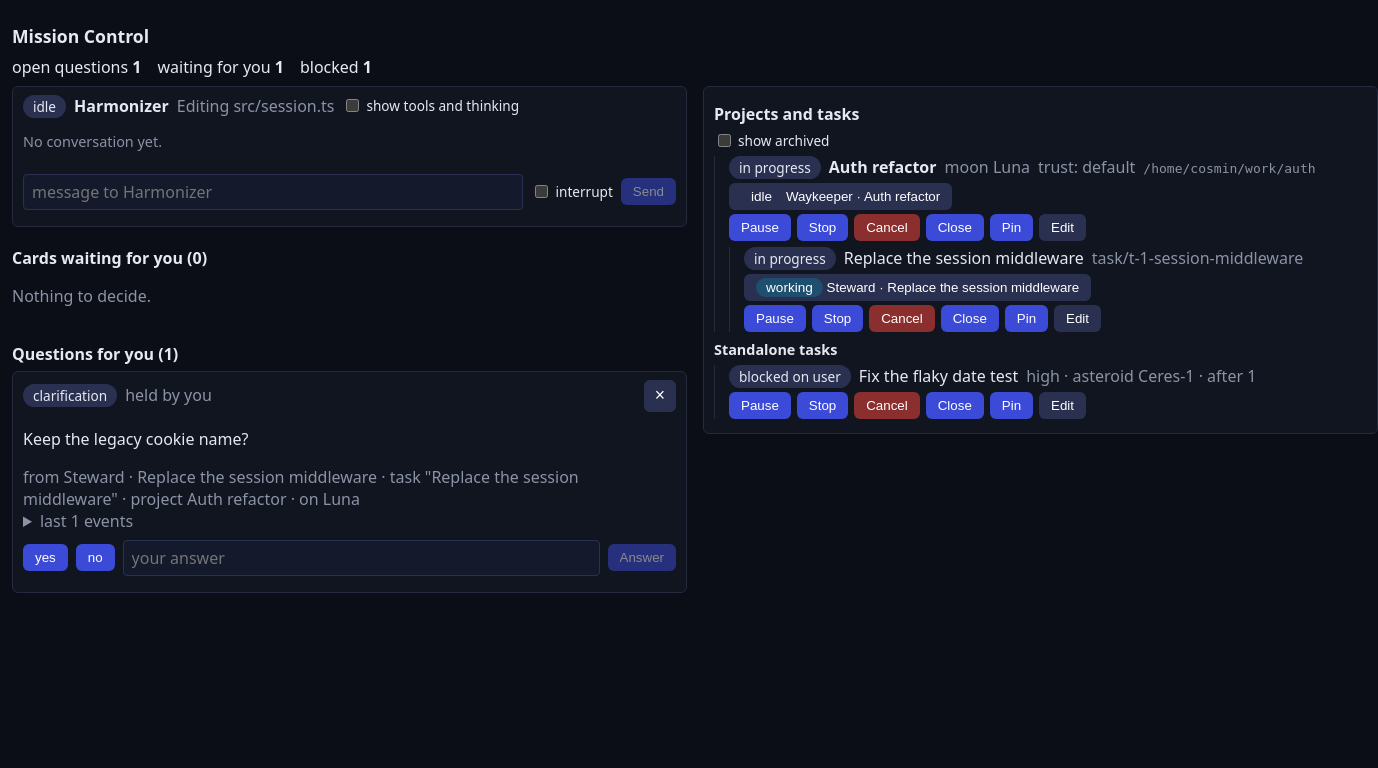
Scenario: question inbox (P2-18) › says who answered first when an answer is stale
Type "no" into the field labelled "answer". click: {"x": 361, "y": 558}
box: 123,540 -> 600,576
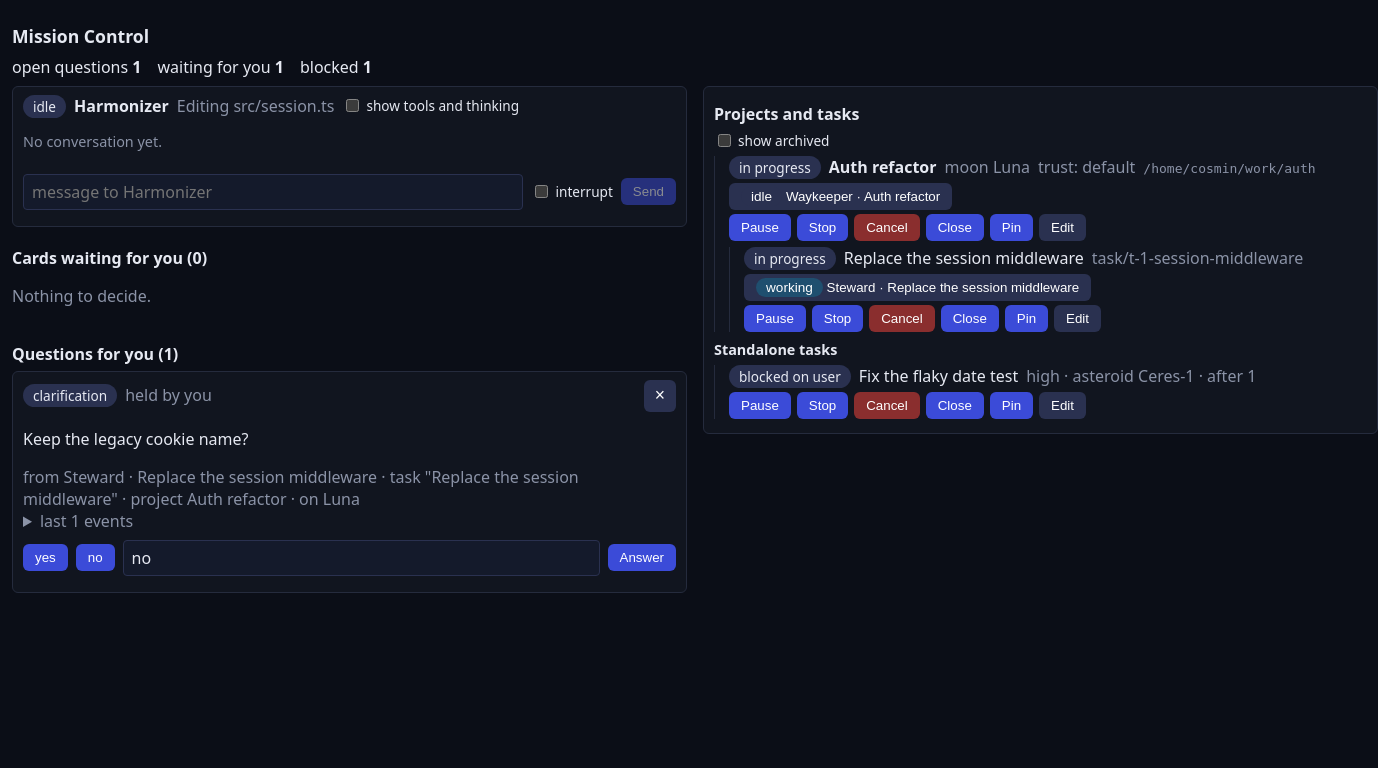
Click the button "Answer". click: {"x": 642, "y": 558}
box: 608,544 -> 676,571
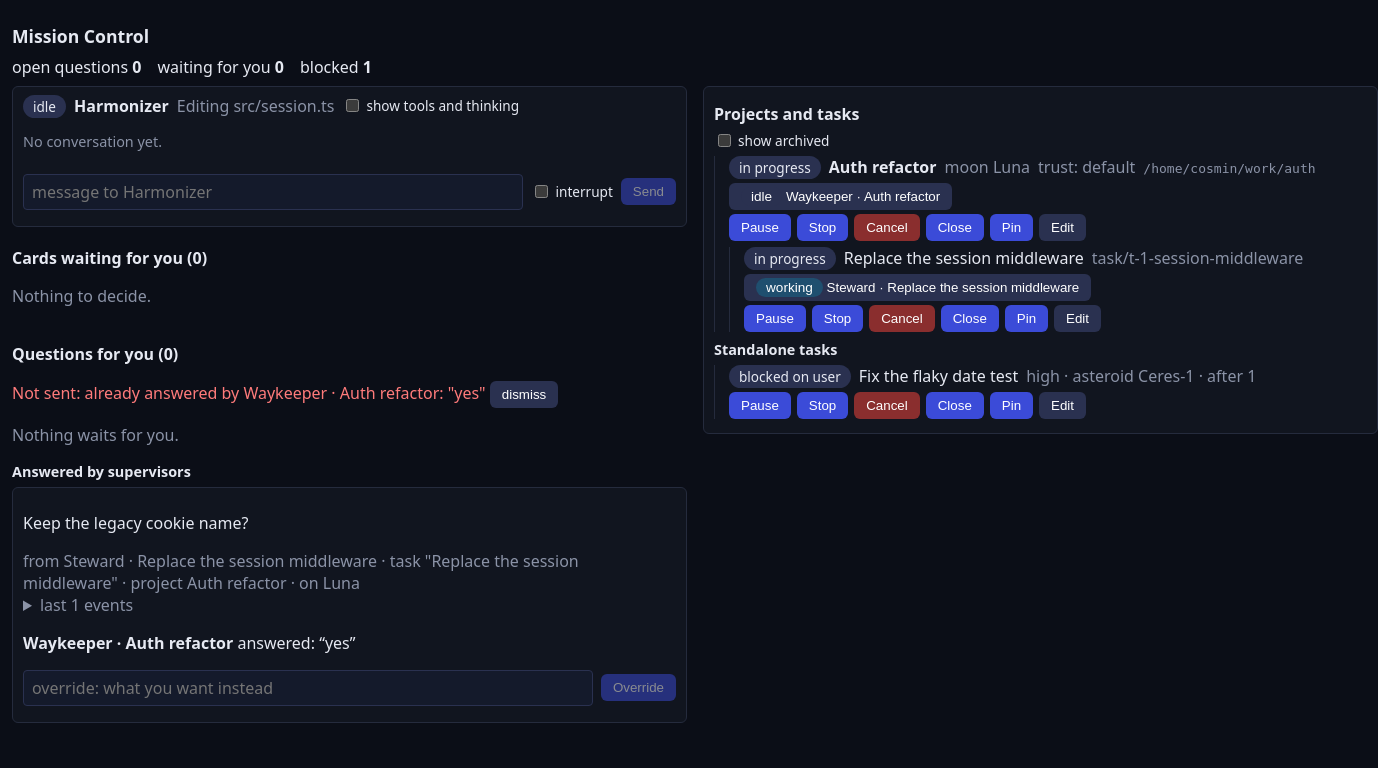
Expected: the message shows "Not sent: already answered by Waykeeper · Auth refactor: \"yes\"", 12,381 -> 558,408
